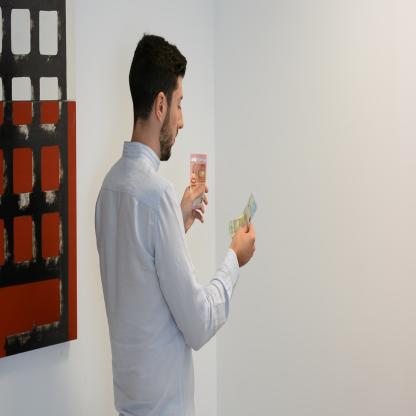billete: (228, 192, 258, 240), (190, 152, 206, 210)
